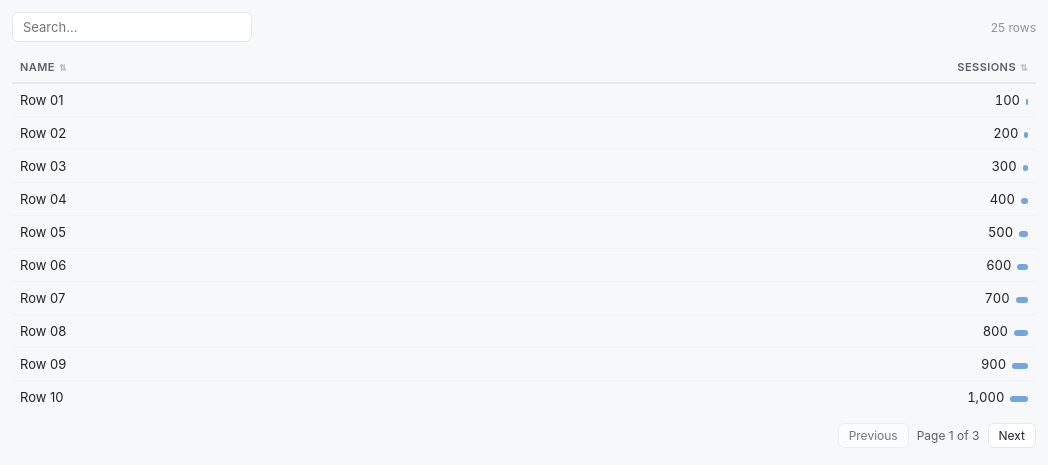
Test case: DataTable › shows an empty message when nothing matches
Type "zzz" into the search field at (132, 27), box left=12, top=12, right=252, bottom=42
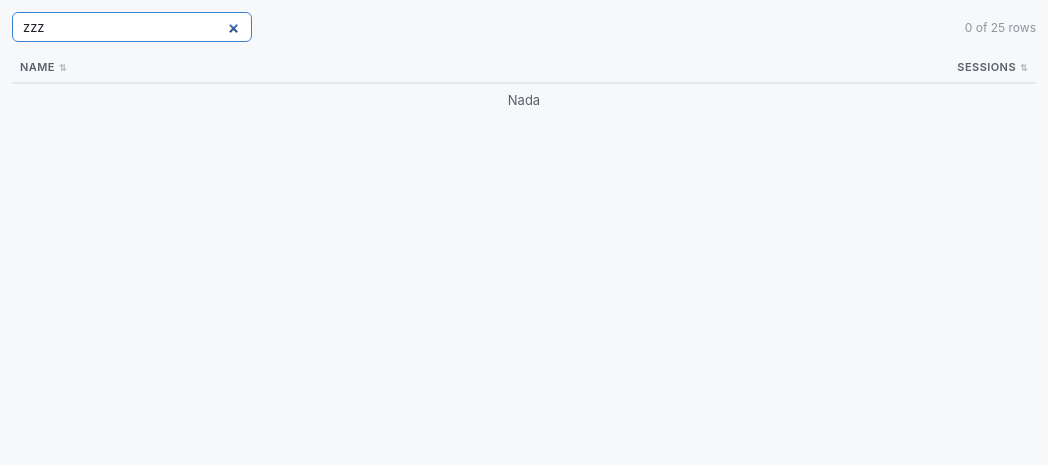
Now the text "Nada" is shown, box left=12, top=83, right=1036, bottom=116
Now the text "0 of 25 rows" is shown, box left=965, top=20, right=1036, bottom=34
